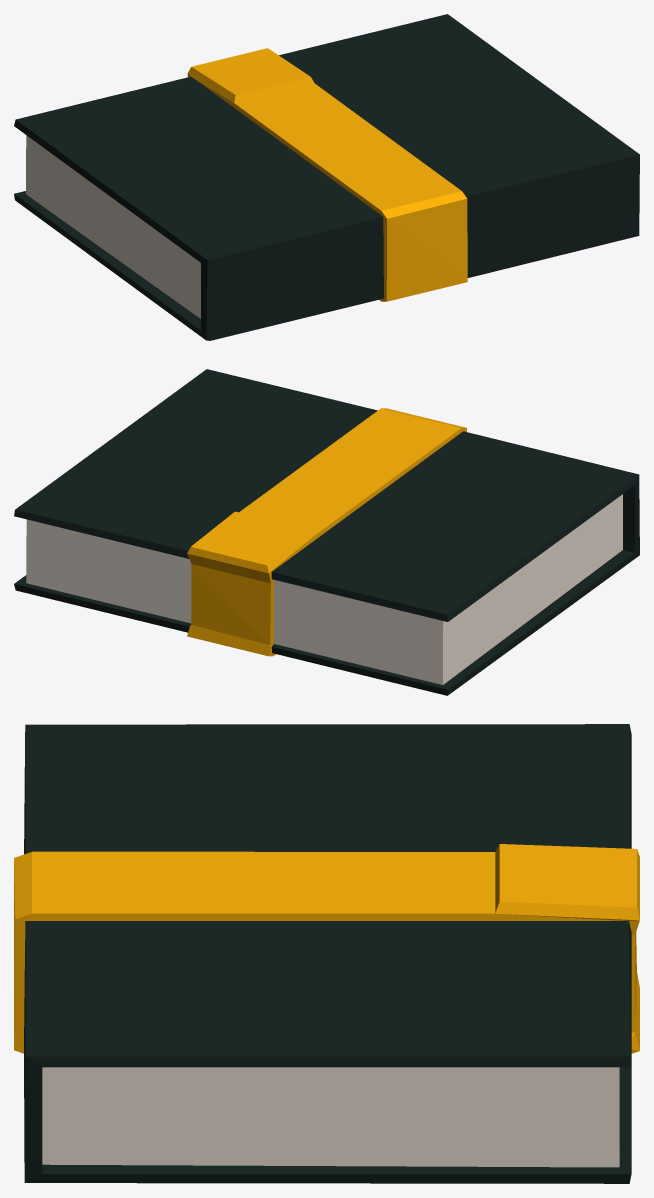
Rendered from m_book.glb.
3 renders of one model, top to bottom at view 1: azimuth 30°, elevation 25°; view 2: azimuth 150°, elevation 25°; view 3: azimuth 270°, elevation 25°, orthographic. The views are drawn at different scales.
Visible parts, largest first — view 1: M_Book; view 2: M_Book; view 3: M_Book.
Part boxes in pixels (x1,y1,x2,y2): M_Book: (14,14,639,340); M_Book: (14,369,639,695); M_Book: (14,724,639,1183).
Size of the model in its own units: 0.3859 by 0.0825 by 0.3061.
Materials: 1 (1 with a texture image).
